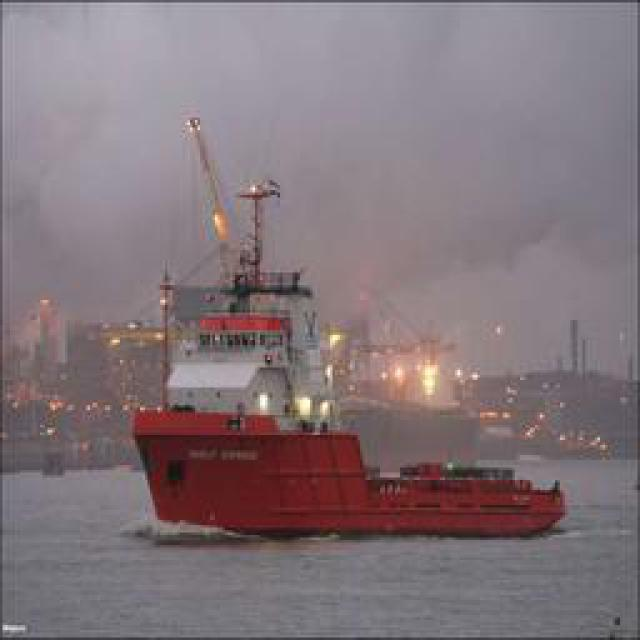Ship: (132, 392, 580, 542)
